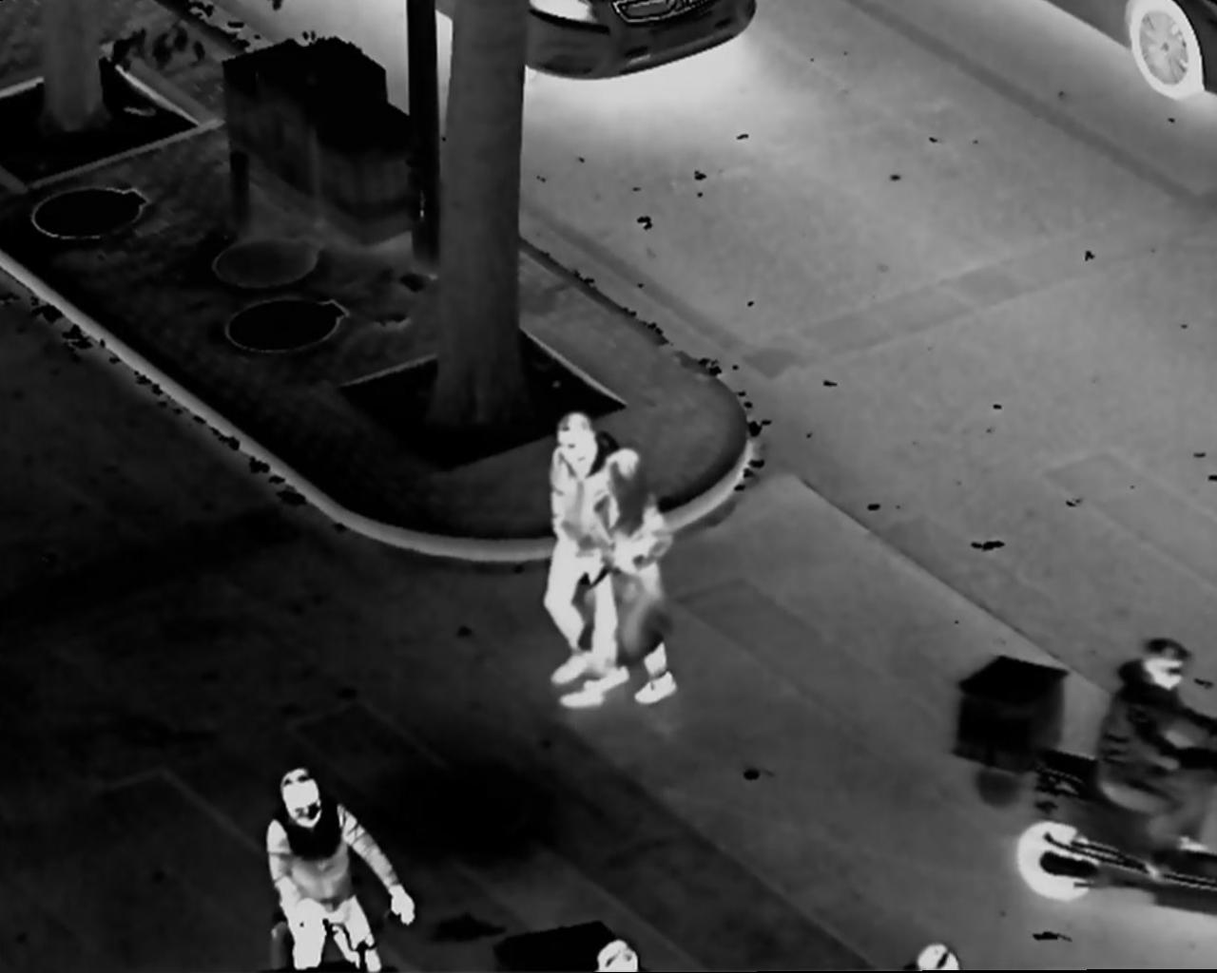person: (262, 765, 424, 963), (558, 448, 673, 719), (1095, 628, 1215, 879), (532, 404, 623, 695)
